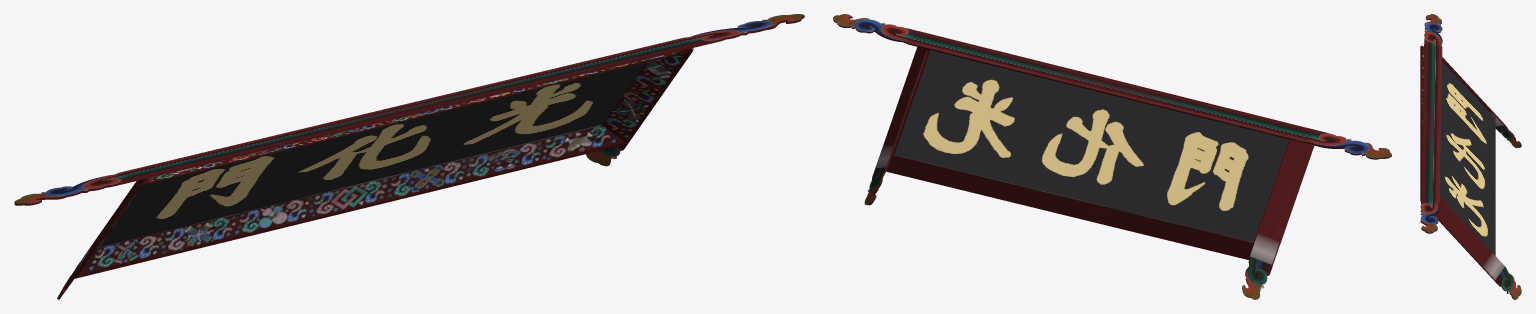
File: SM_GHM_HangingBoard.fbx
3 views of the same model, side by side, from view 1: azimuth 30°, elevation 25°; view 2: azimuth 150°, elevation 25°; view 3: azimuth 270°, elevation 25° (orthographic). The views are drawn at different scales.
Visible parts, largest first — view 1: SM_GHM_HangingBoard; view 2: SM_GHM_HangingBoard; view 3: SM_GHM_HangingBoard.
Part boxes in pixels (x1,y1,x2,y2): SM_GHM_HangingBoard: (14,14,804,299); SM_GHM_HangingBoard: (833,14,1391,299); SM_GHM_HangingBoard: (1420,14,1521,299).
Bounding box in the file's own units: 626 × 137 × 123.
